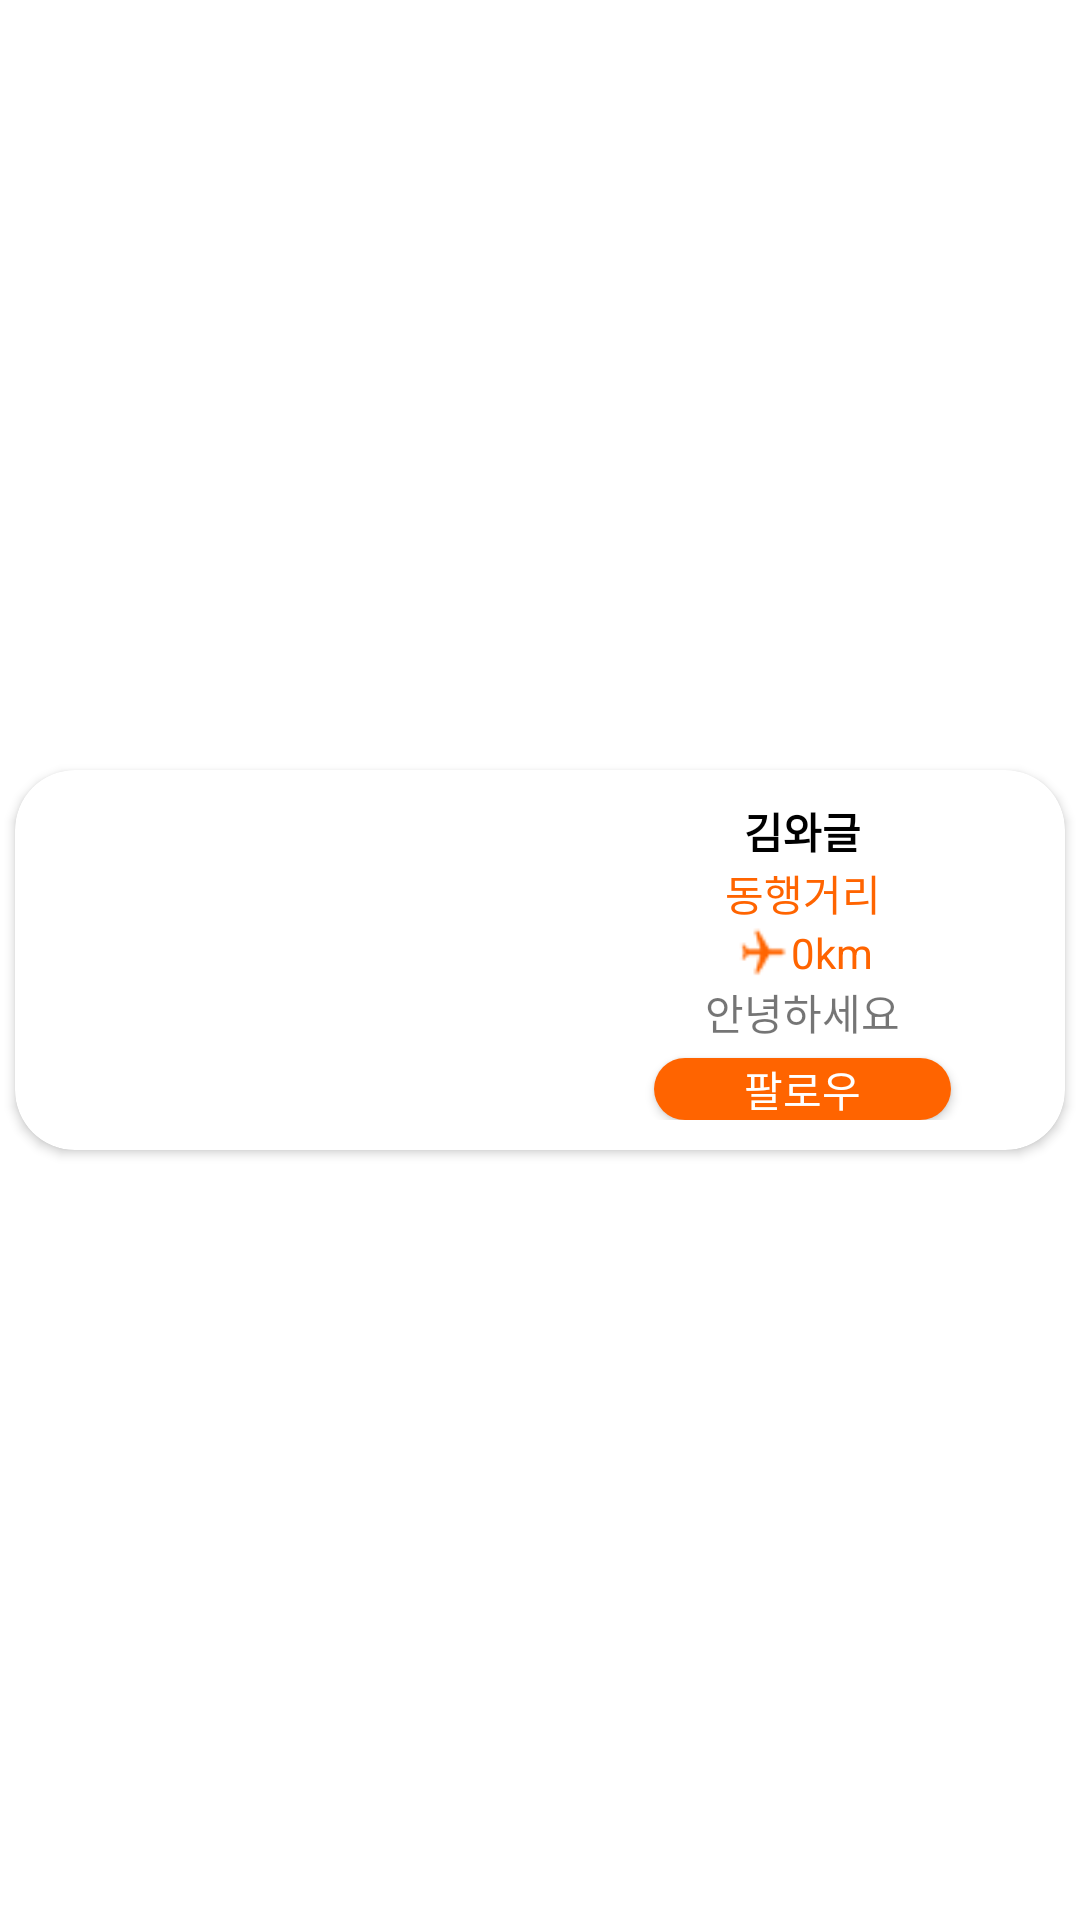

Icon click points for this 1080px x 1920px phone screenshot, format (x=x, y=y):
flight: (x=763, y=952)
